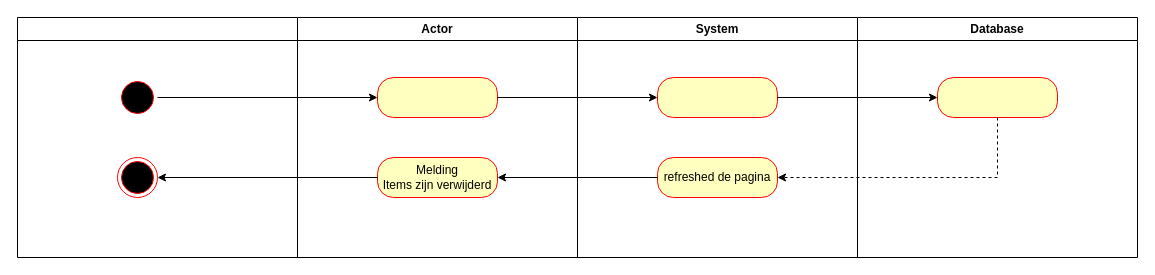
Some shapes in this 1155 by 275 pixel diagram are drawn without their labels. The box of each missing label's shape, as (x1, y1, x2, y2) in pixels:
Drukt op de verwijderen knop: (376, 76, 498, 118)
Stuurt cart_ID: (656, 76, 778, 118)
Verwijderd de rows die bij dit cart_ID horen: (936, 76, 1058, 118)
